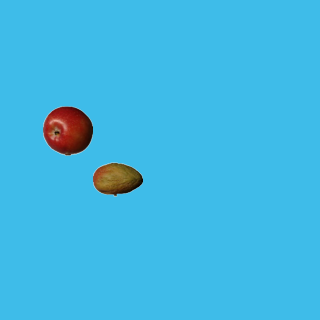Apple Braeburn: (42, 105, 92, 155)
Papaya: (92, 154, 142, 204)
